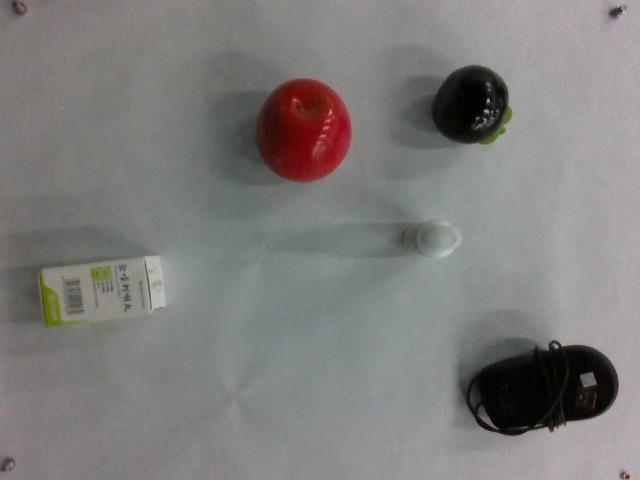apple: (256, 79, 353, 183)
carton: (33, 254, 169, 325)
detergent: (400, 217, 461, 262)
mangosteen: (430, 63, 514, 148)
mouse: (466, 339, 617, 433)
